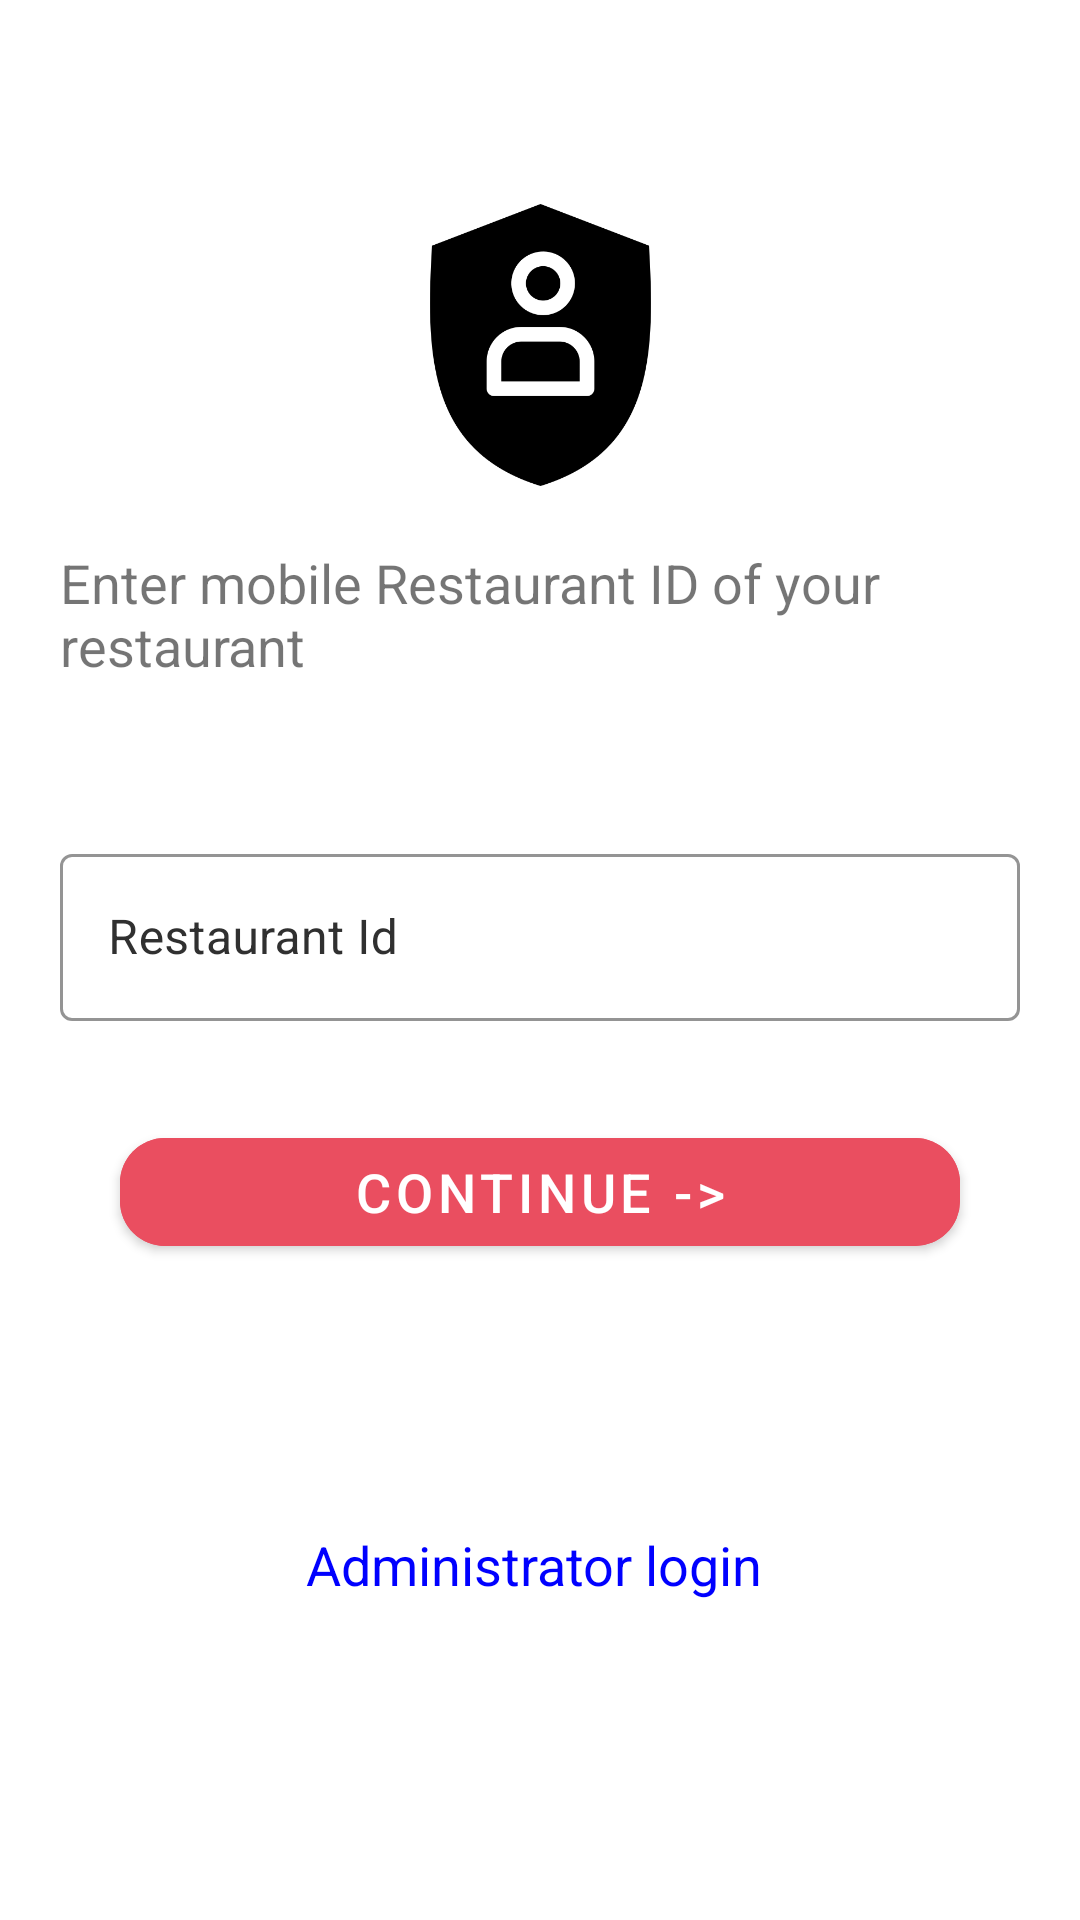

Where icons sit on this 1080 x 1920 app screen, as bbox=(x1, y1, x2, y2):
admin login screen: bbox=(430, 204, 651, 486)
